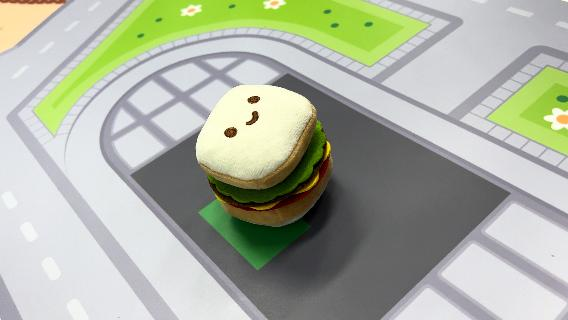sandwich: (194, 82, 336, 228)
